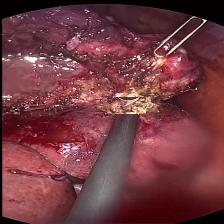Grasper: (141, 16, 211, 63)
Hook: (106, 97, 144, 114)
